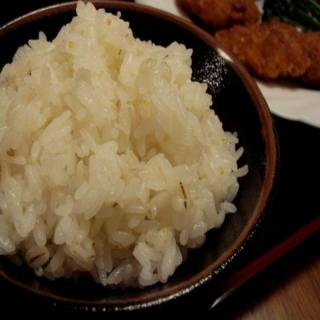Nasi: (1, 1, 249, 292)
